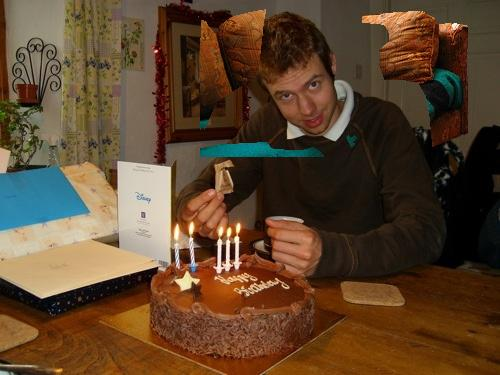tampered: (201, 10, 468, 157)
